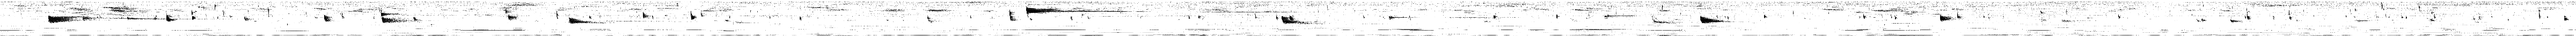meteor: (1027, 7, 1106, 13), (48, 15, 79, 23), (1700, 15, 1730, 23), (568, 18, 601, 25), (1281, 16, 1309, 23), (381, 16, 404, 23), (1388, 15, 1408, 20), (1009, 10, 1017, 21), (1653, 18, 1671, 23), (1940, 15, 1953, 21), (166, 13, 176, 21), (690, 10, 698, 20), (927, 15, 936, 23), (381, 11, 396, 16), (324, 15, 333, 21), (642, 11, 651, 18), (508, 15, 517, 20), (2231, 18, 2241, 23), (2246, 10, 2251, 20), (2563, 15, 2569, 21), (243, 16, 251, 21), (1957, 11, 1962, 18)
